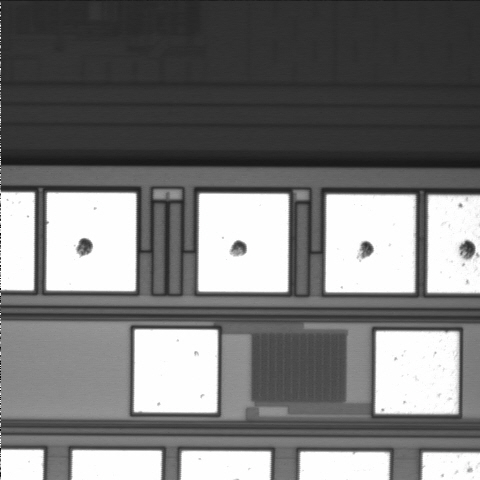pad: (198, 194, 289, 292), (325, 194, 415, 293), (46, 193, 136, 291), (134, 329, 218, 413), (375, 331, 459, 414)
